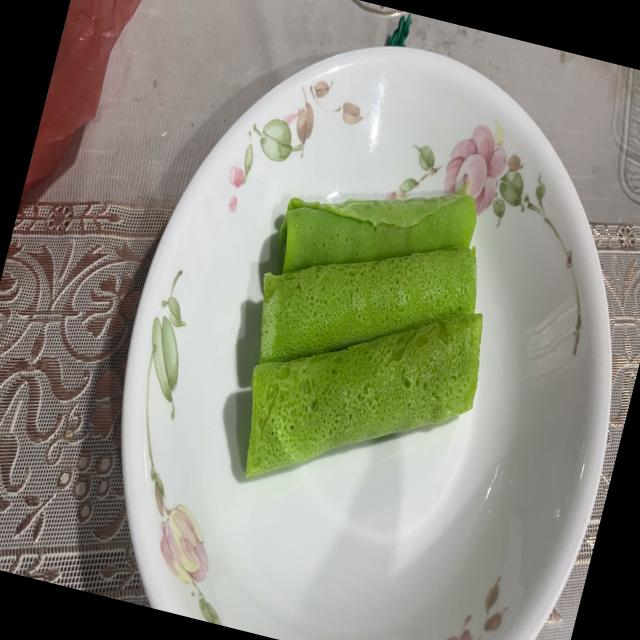Kuih-Ketayap: (245, 312, 482, 476), (259, 247, 476, 363), (280, 194, 476, 273)
